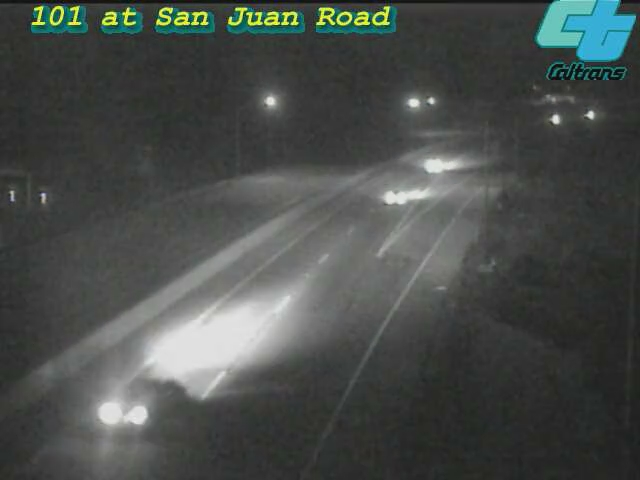vehicle: (81, 349, 191, 459), (396, 124, 476, 204), (355, 156, 435, 236), (532, 93, 582, 143), (566, 91, 616, 141)
